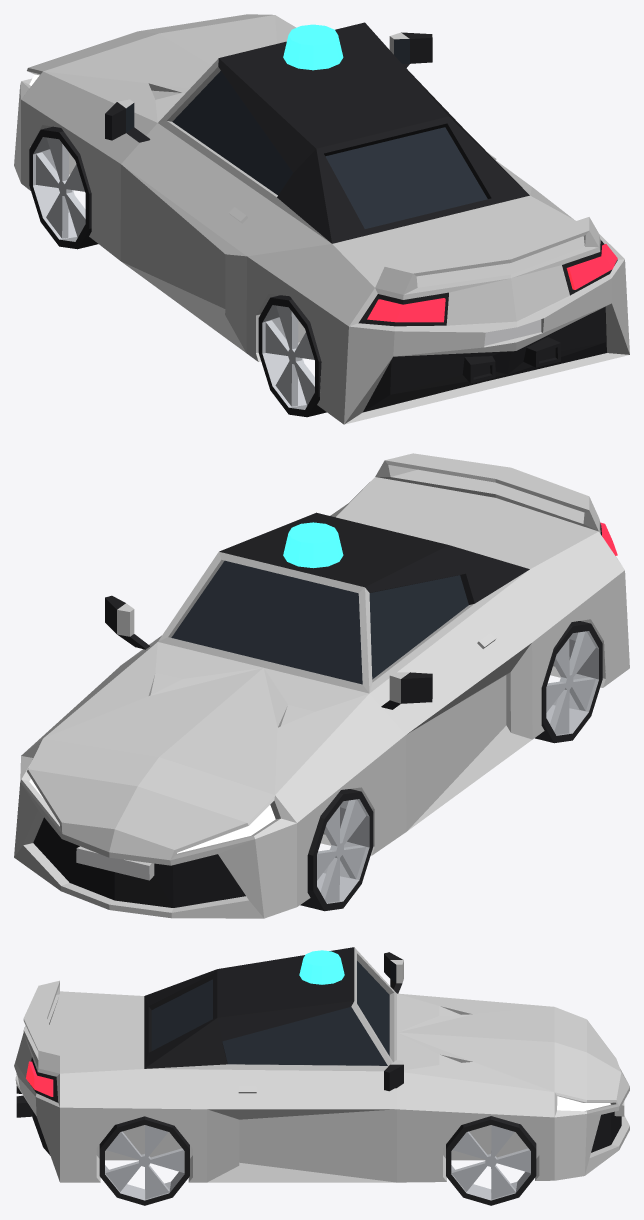
File: robotaxi.glb
3 renders of one model, top to bottom at view 1: azimuth 30°, elevation 25°; view 2: azimuth 150°, elevation 25°; view 3: azimuth 270°, elevation 25°, orthographic. The views are drawn at different scales.
Visible parts, largest first — view 1: Body, Bumper_R, Glass, Wheel_FL, Wheel_RL, Lamp_R, Mirror_R, Mirror_L; view 2: Body, Glass, Bumper_F, Wheel_FL, Wheel_RL, Mirror_L, Lamp_F; view 3: Body, Glass, Wheel_FR, Wheel_RR, Bumper_F, Bumper_R, Lamp_R, Mirror_R, Lamp_F.
Part boxes in pixels (left/top/right/bottom): Body: left=14, top=14, right=624, bottom=424; Bumper_R: left=344, top=260, right=629, bottom=424; Glass: left=126, top=39, right=487, bottom=228; Wheel_FL: left=29, top=126, right=97, bottom=249; Wheel_RL: left=258, top=295, right=326, bottom=417; Lamp_R: left=367, top=244, right=617, bottom=322; Mirror_R: left=401, top=32, right=432, bottom=63; Mirror_L: left=105, top=102, right=125, bottom=140; Body: left=20, top=453, right=629, bottom=918; Glass: left=171, top=560, right=468, bottom=684; Bumper_F: left=14, top=782, right=264, bottom=918; Wheel_FL: left=300, top=789, right=373, bottom=911; Wheel_RL: left=535, top=621, right=602, bottom=743; Mirror_L: left=401, top=672, right=432, bottom=703; Lamp_F: left=29, top=779, right=275, bottom=853; Body: left=15, top=947, right=629, bottom=1182; Glass: left=151, top=960, right=396, bottom=1065; Wheel_FR: left=446, top=1116, right=536, bottom=1205; Wheel_RR: left=99, top=1116, right=189, bottom=1205; Bumper_F: left=585, top=1087, right=629, bottom=1175; Bumper_R: left=14, top=1062, right=59, bottom=1181; Lamp_R: left=26, top=1061, right=53, bottom=1096; Mirror_R: left=384, top=1064, right=403, bottom=1091; Lamp_F: left=557, top=1096, right=610, bottom=1111.
Bounding box in the file's own units: 2.13 × 1.61 × 4.6.
